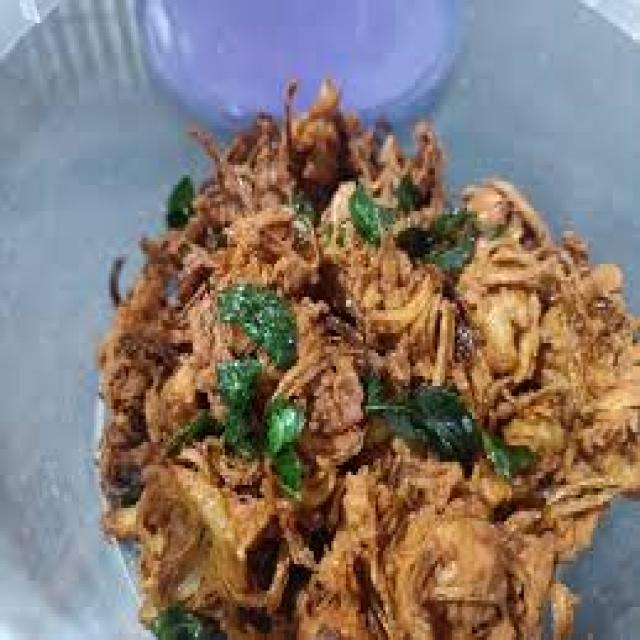BAJI: (99, 73, 638, 637)
